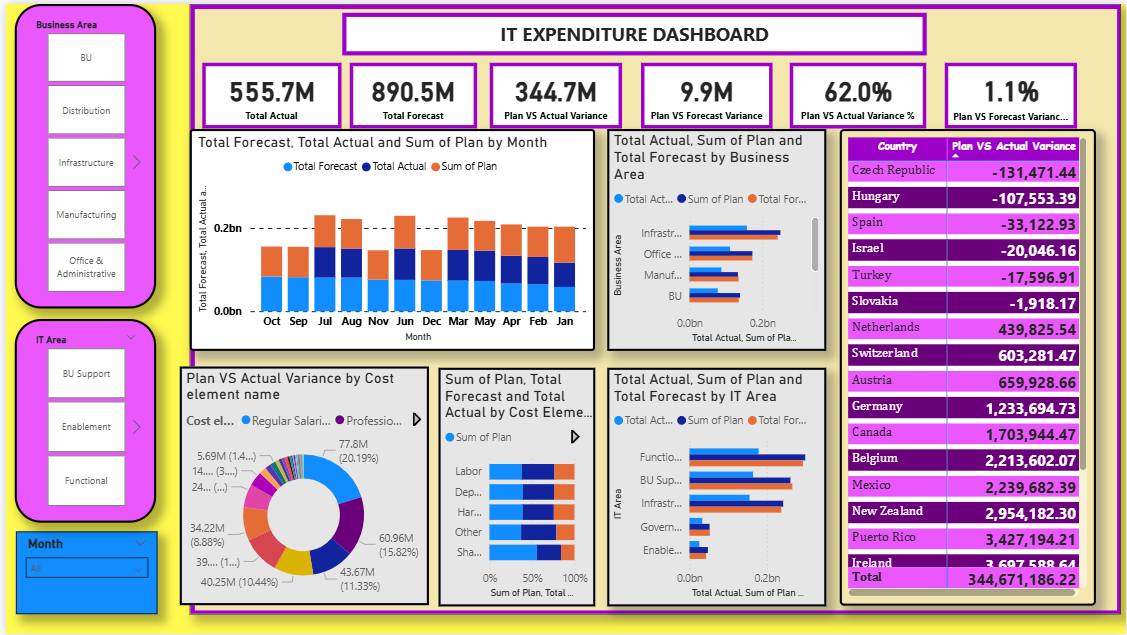

Layout of this report page (visuals, bound fields, positions):
{"tool":"powerbi","page":{"name":"Page 1","canvas":[1280,720],"ordinal":0},"visuals":[{"type":"shape","box":[209.4,0,1064,697.2],"z":0},{"type":"card","fields":{"Values":["Measure.Total Actual"]},"box":[224.8,67.2,158.8,75],"z":1000},{"type":"card","fields":{"Values":["Measure.Total Forecast"]},"box":[392.2,67.2,145.4,75],"z":2000},{"type":"card","fields":{"Values":["Measure.Plan VS Actual Variance"]},"box":[553.5,67.2,151.5,75],"z":3000},{"type":"card","fields":{"Values":["Measure.Plan VS Actual Variance %"]},"box":[895.6,67.2,156.4,75],"z":4000},{"type":"card","fields":{"Values":["Measure.Plan VS Forecast Variance"]},"box":[725.8,67.2,150.3,75],"z":5000},{"type":"card","fields":{"Values":["Measure.Plan VS Forecast Variance %"]},"box":[1072.8,67.2,151.5,75],"z":6000},{"type":"pivotTable","fields":{"Rows":["Data.Country"],"Values":["Measure.Plan VS Actual Variance"]},"box":[952.7,142.8,292.9,544.7],"z":7000},{"type":"columnChart","fields":{"Category":["Data.Month"],"Y":["Measure.Total Forecast","Measure.Total Actual","Sum(Data.Plan)"]},"box":[209.8,142.8,463.3,253.5],"z":8000},{"type":"donutChart","fields":{"Y":["Measure.Plan VS Actual Variance"],"Category":["Data.Cost element name"]},"box":[199.2,414.2,284.7,272.5],"z":9000},{"type":"hundredPercentStackedBarChart","fields":{"Y":["Sum(Data.Plan)","Measure.Total Forecast","Measure.Total Actual"],"Category":["Data.Cost Element Group"]},"box":[493.9,415.2,179.2,272.4],"z":10000},{"type":"clusteredBarChart","fields":{"Y":["Measure.Total Actual","Sum(Data.Plan)","Measure.Total Forecast"],"Category":["Data.Business Area"]},"box":[687.6,142.8,250.6,253.5],"z":11000},{"type":"clusteredBarChart","fields":{"Y":["Measure.Total Actual","Sum(Data.Plan)","Measure.Total Forecast"],"Category":["Data.IT Area"]},"box":[687.6,415.2,250.6,272.4],"z":12000},{"type":"slicer","fields":{"Values":["Data.Business Area"]},"box":[10.2,0,161.7,348.2],"z":13000},{"type":"slicer","fields":{"Values":["Data.Month"]},"box":[11.7,603.1,161.7,94.7],"z":14000},{"type":"textbox","box":[383.7,9.8,668.4,48.9],"z":16000},{"type":"slicer","fields":{"Values":["Data.IT Area"]},"box":[10.2,359.8,161.7,233.1],"z":17000}]}

Visuals, with their boxes in screenshot pixels (x1, y1, x2, y2), scaled from the page's 1280x720 canvas onto the 1127x635 screenshot:
shape: 184, 0, 1121, 615
card - Measure.Total Actual: 198, 59, 338, 125
card - Measure.Total Forecast: 345, 59, 473, 125
card - Measure.Plan VS Actual Variance: 487, 59, 621, 125
card - Measure.Plan VS Actual Variance %: 789, 59, 926, 125
card - Measure.Plan VS Forecast Variance: 639, 59, 771, 125
card - Measure.Plan VS Forecast Variance %: 945, 59, 1078, 125
pivotTable - Data.Country x Measure.Plan VS Actual Variance: 839, 126, 1097, 606
columnChart - Data.Month x Measure.Total Forecast: 185, 126, 593, 350
donutChart - Measure.Plan VS Actual Variance x Data.Cost element name: 175, 365, 426, 606
hundredPercentStackedBarChart - Sum(Data.Plan) x Measure.Total Forecast: 435, 366, 593, 606
clusteredBarChart - Measure.Total Actual x Sum(Data.Plan): 605, 126, 826, 350
clusteredBarChart - Measure.Total Actual x Sum(Data.Plan): 605, 366, 826, 606
slicer - Data.Business Area: 9, 0, 151, 307
slicer - Data.Month: 10, 532, 153, 615
textbox: 338, 9, 926, 52
slicer - Data.IT Area: 9, 317, 151, 523
